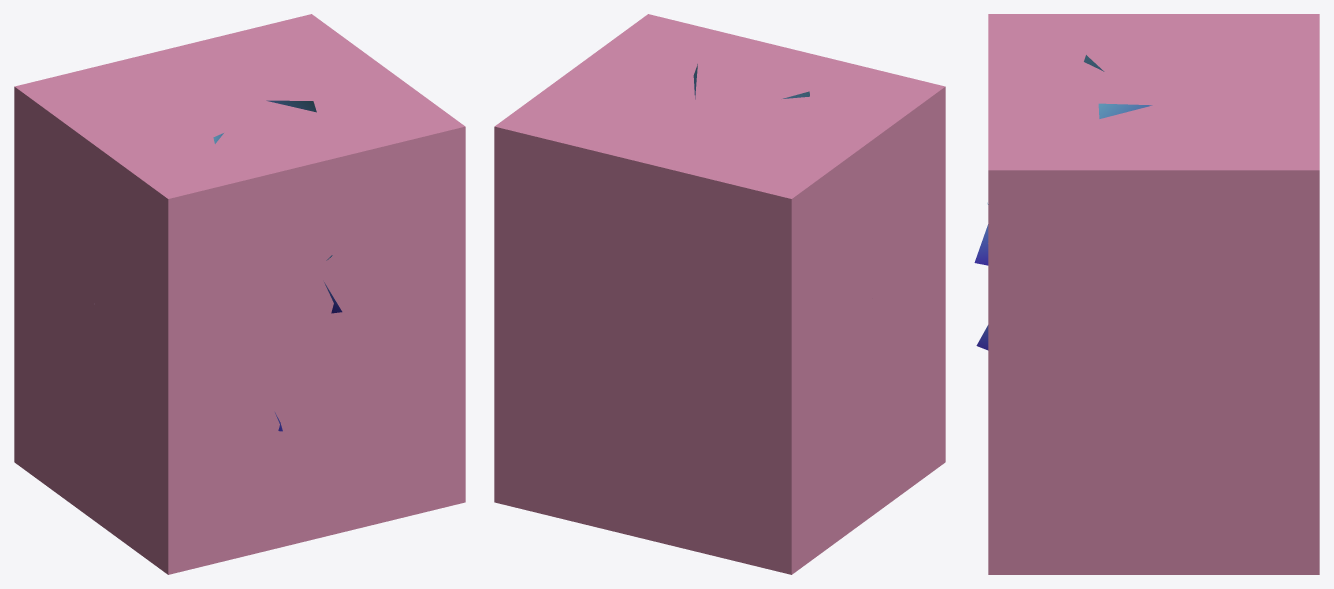
Rendered from tree_aspen_blocker_a.dae.
3 renders of one model, left to right at view 1: azimuth 30°, elevation 25°; view 2: azimuth 150°, elevation 25°; view 3: azimuth 270°, elevation 25°, orthographic. The views are drawn at different scales.
Visible parts, largest first — view 1: Untitled; view 2: Untitled; view 3: Untitled, tree_oak_large_c450.
Boxes of the visible parts, x1,y1,x2,y2 form: Untitled: (14,14,465,574); Untitled: (494,14,945,574); Untitled: (988,14,1319,574); tree_oak_large_c450: (974,55,1152,350).
Bounding box in the file's own units: 4.4 × 4.1 × 5.65.
